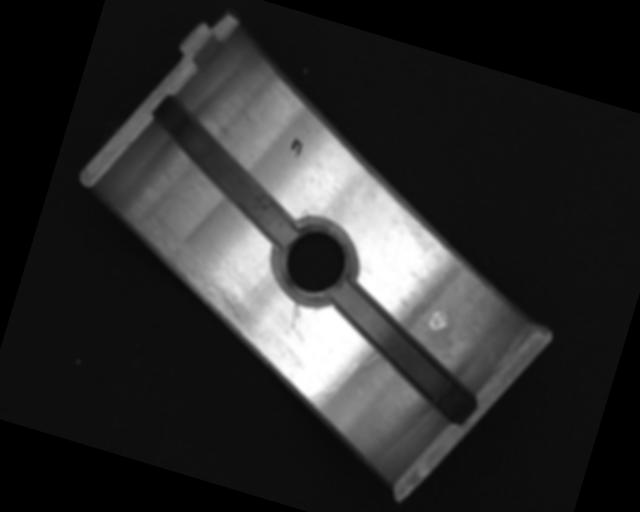blot: (287, 136, 306, 159)
bruise: (427, 307, 451, 334)
gap: (128, 95, 322, 247), (313, 284, 497, 423)
hole: (261, 209, 366, 310)
nick: (305, 349, 359, 415), (287, 301, 303, 330)
scratch: (102, 217, 273, 339)
